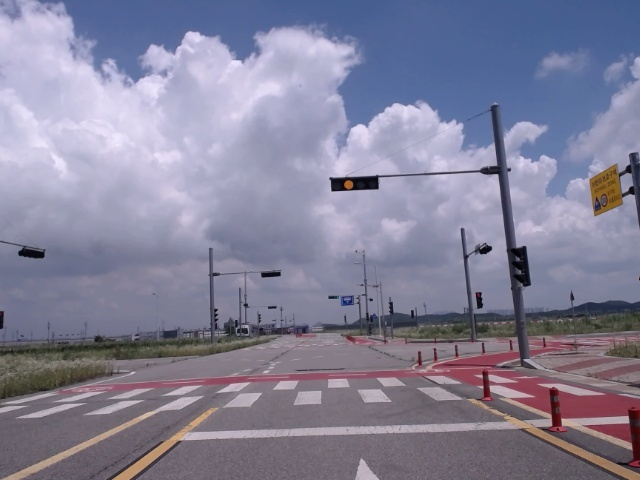orange_4: (329, 176, 378, 189)
